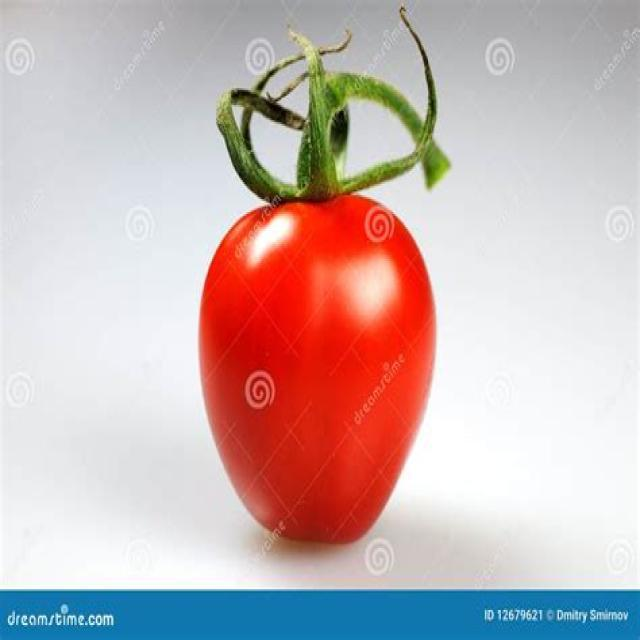Tomato: (198, 52, 449, 549)
